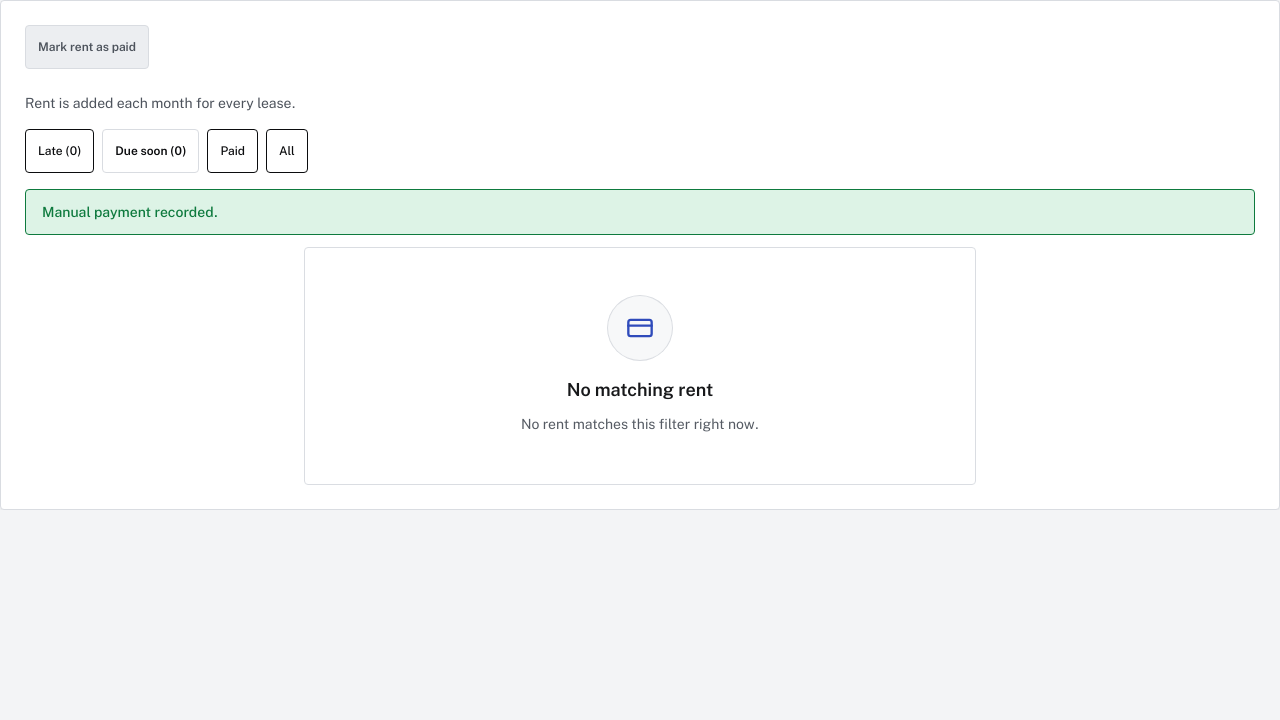
Test: ChargesSection › clears the prior manual-payment alert after a successful undo
The width and height of the screenshot is (1280, 720).
Expected: the text "Manual payment recorded." is shown, top-left (25, 189), bottom-right (1255, 235)
Click the button "Paid" at (233, 151), box top-left (207, 129), bottom-right (258, 173)
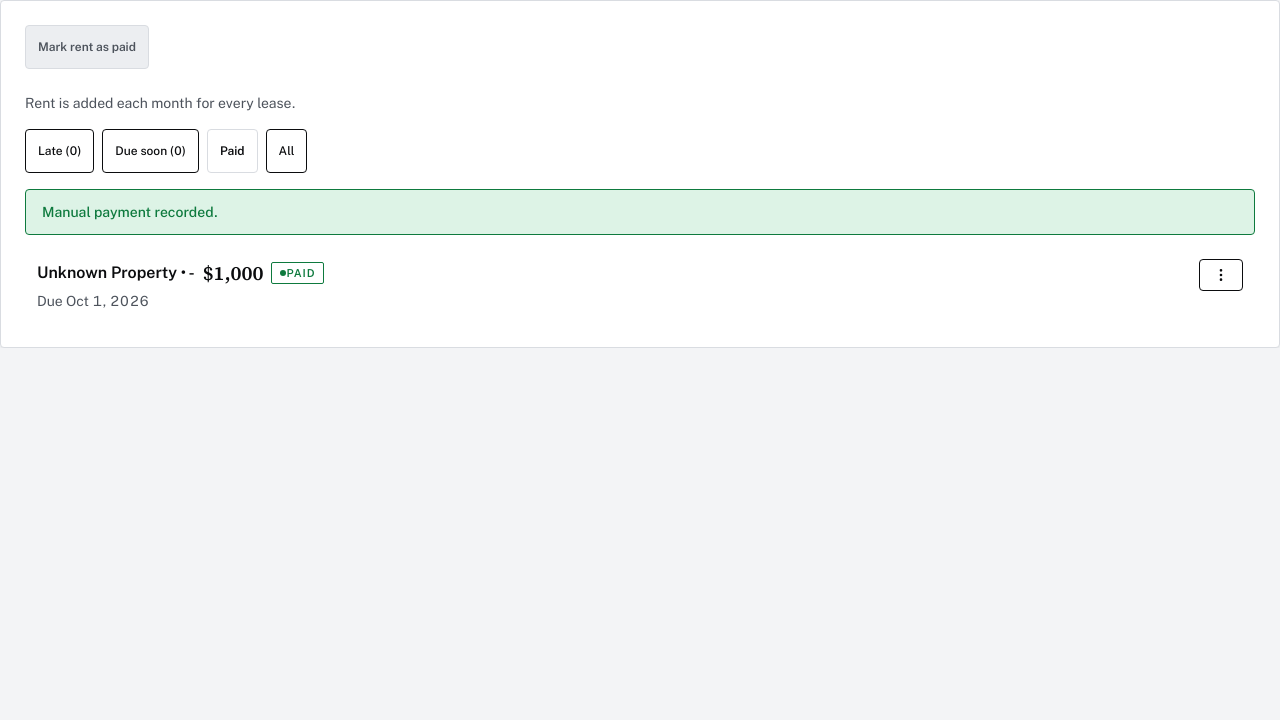
Click the button named "Open more payment actions" at (1221, 275), box top-left (1199, 259), bottom-right (1243, 291)
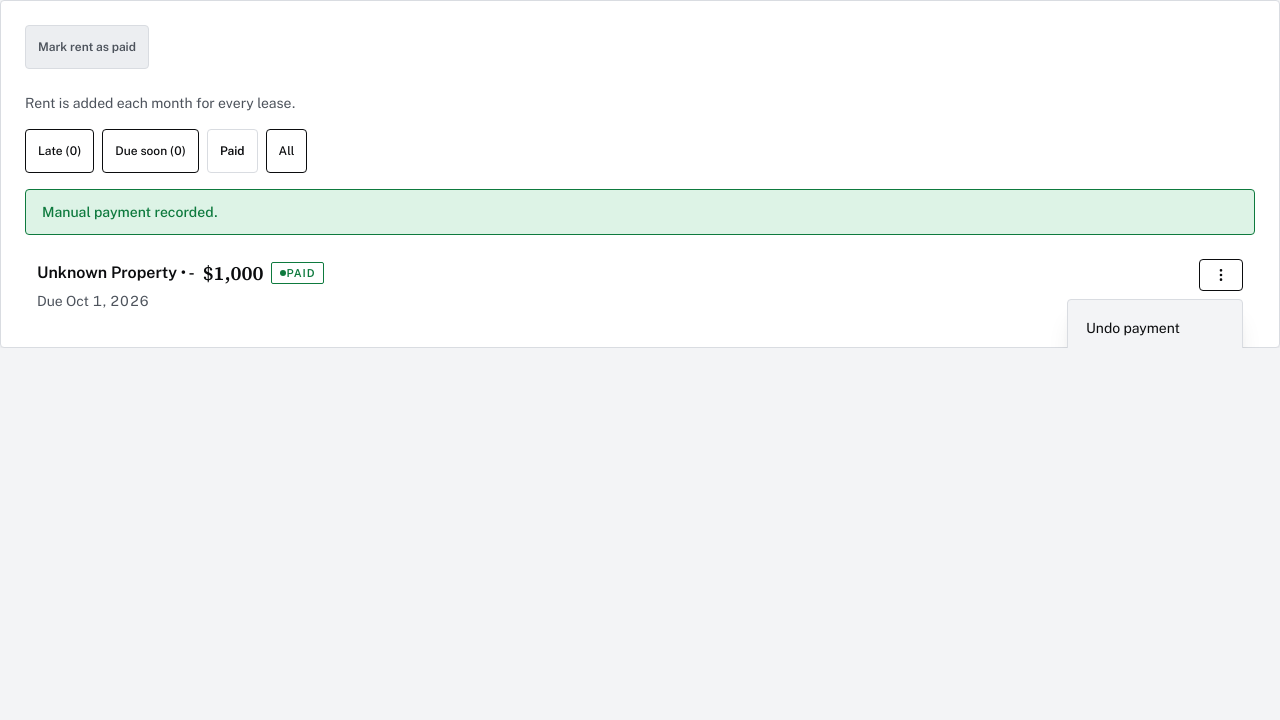
Click the button "Undo payment" at (1155, 328), box top-left (1074, 306), bottom-right (1236, 350)
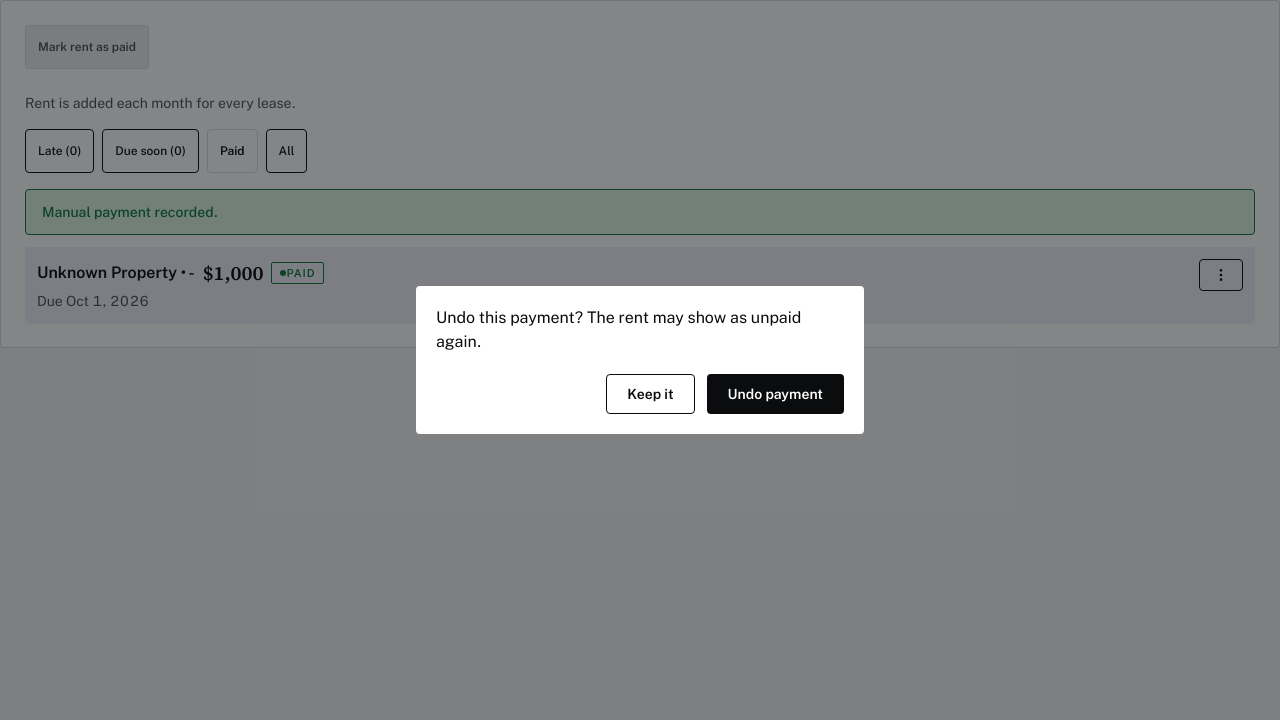
Click the button "Undo payment" at (775, 394), box top-left (707, 374), bottom-right (844, 414)
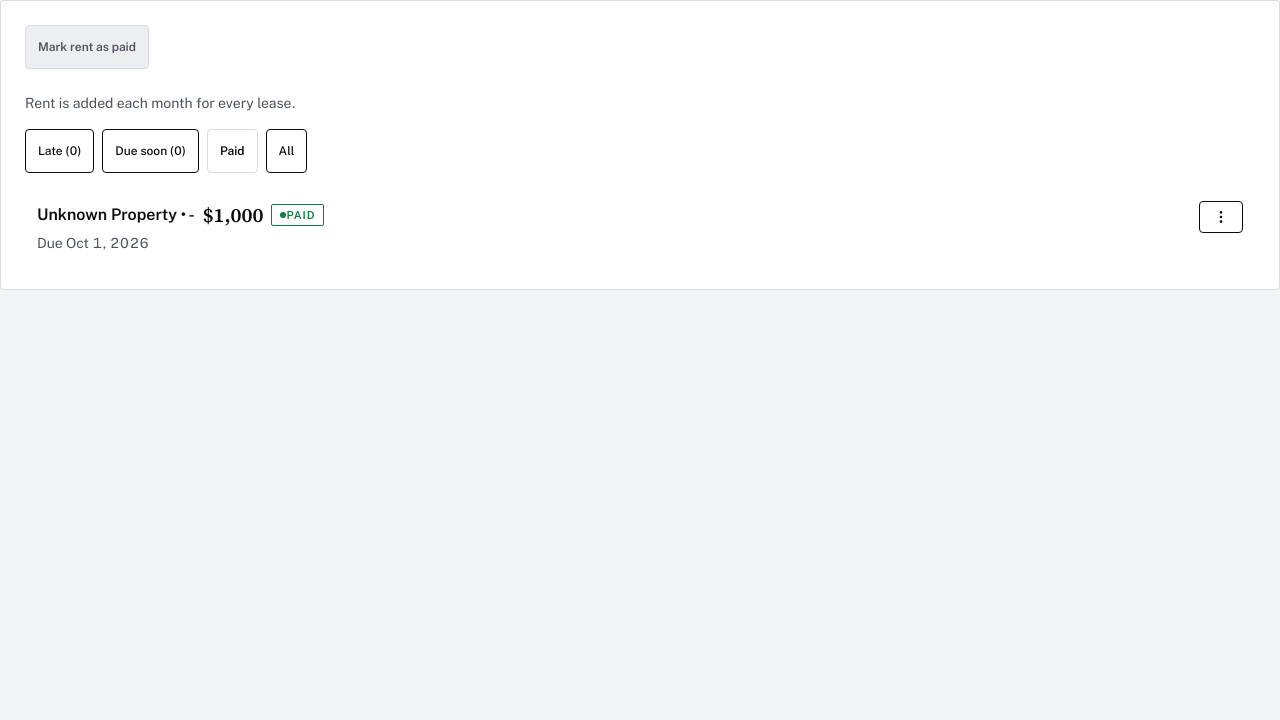
Result: the text "Manual payment recorded." is gone
